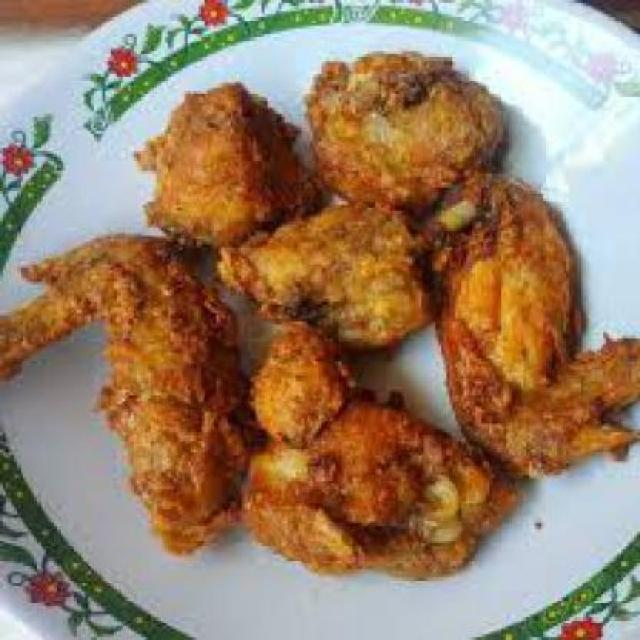Wet Waste: (234, 319, 535, 583), (0, 234, 245, 558), (432, 182, 637, 478), (220, 202, 442, 342), (311, 57, 506, 208), (134, 87, 298, 250)
